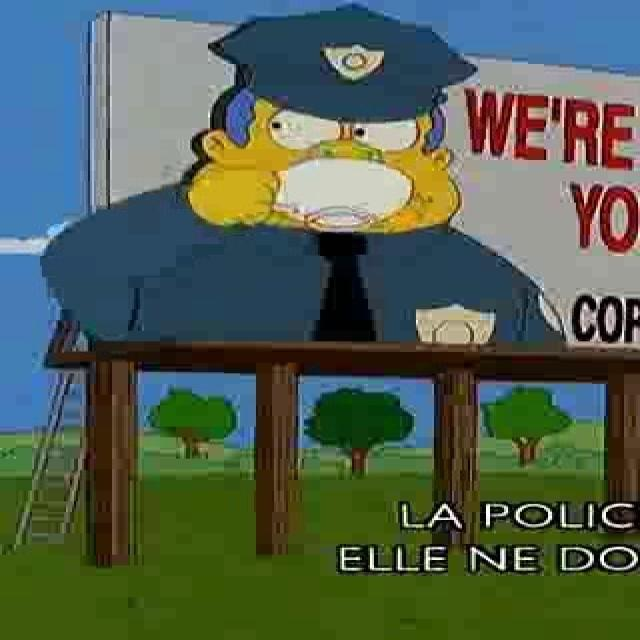Chief Wiggam: (180, 0, 488, 236)
